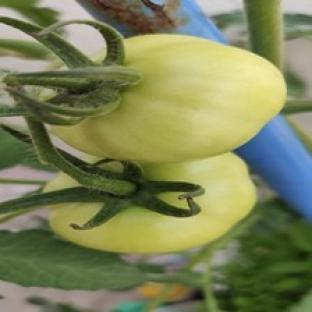Tomato: (53, 34, 285, 161), (49, 154, 256, 253)
